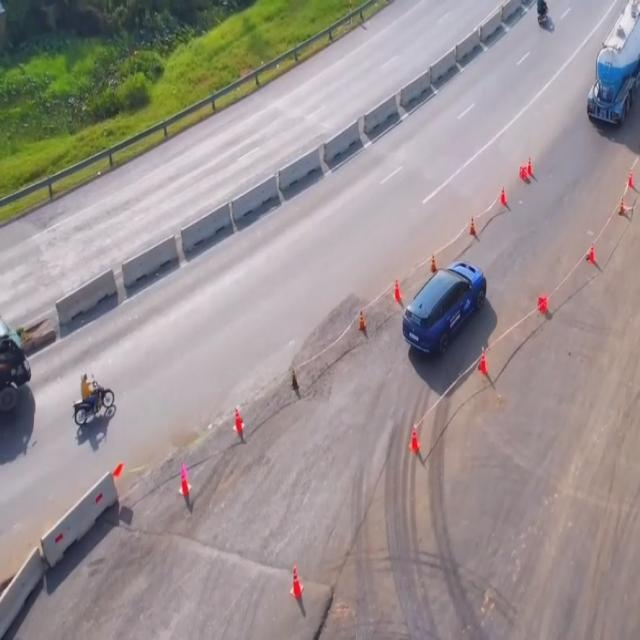car: (399, 259, 490, 362)
motorbike: (70, 374, 112, 450), (534, 0, 552, 32)
truck: (587, 1, 640, 131), (0, 309, 30, 408)
